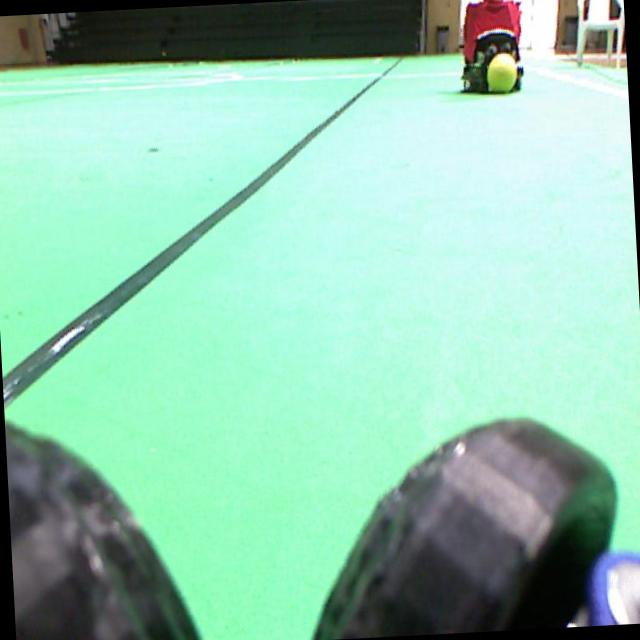ball: (486, 53, 517, 91)
